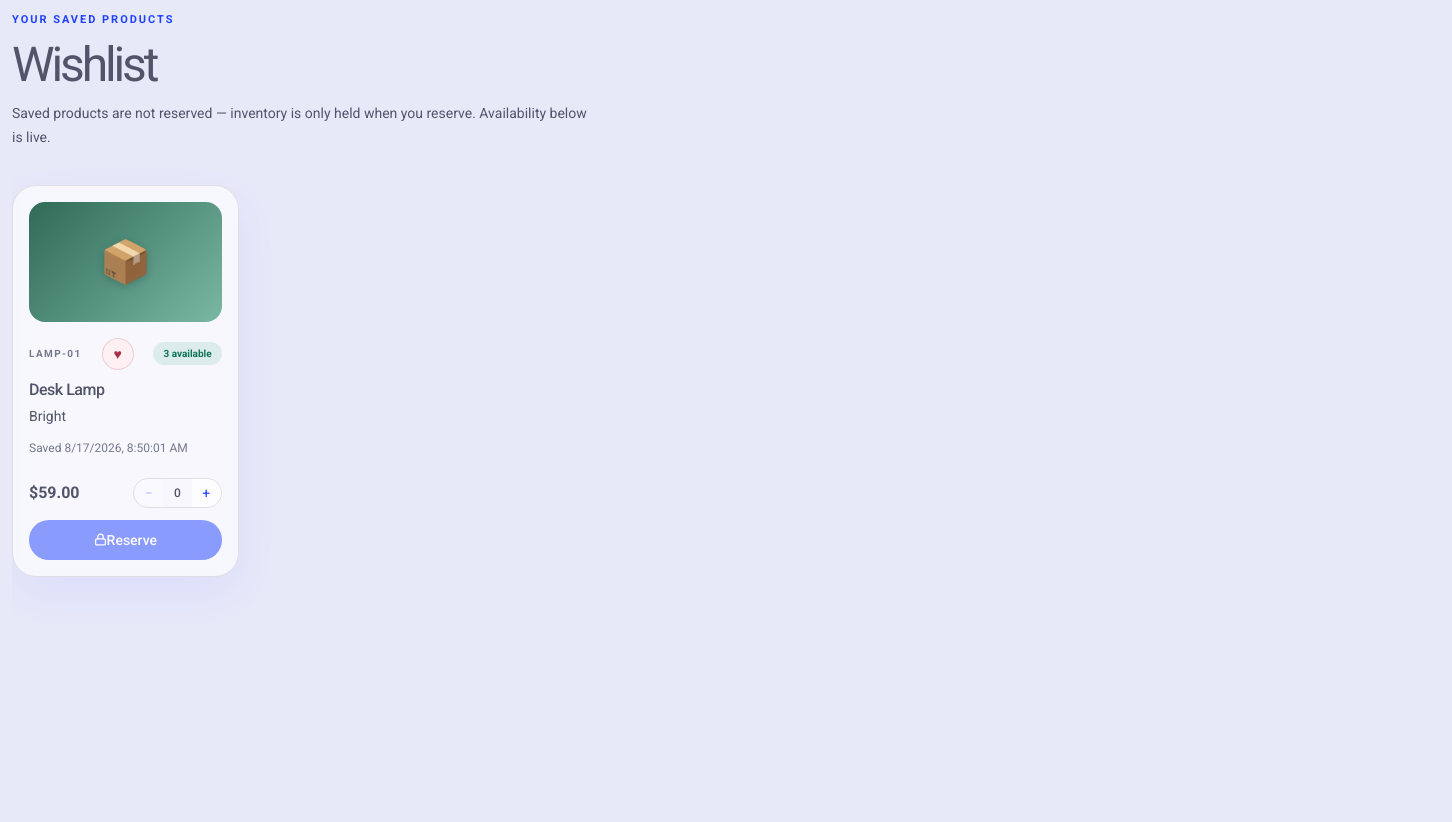
CustomerWishlist › removes items from the wishlist without touching reservations
Expected: the heading "Desk Lamp" is shown, 29,380 -> 104,399
Click the button named "Remove Desk Lamp from wishlist".
click(118, 354)  # box 102,338 -> 134,370
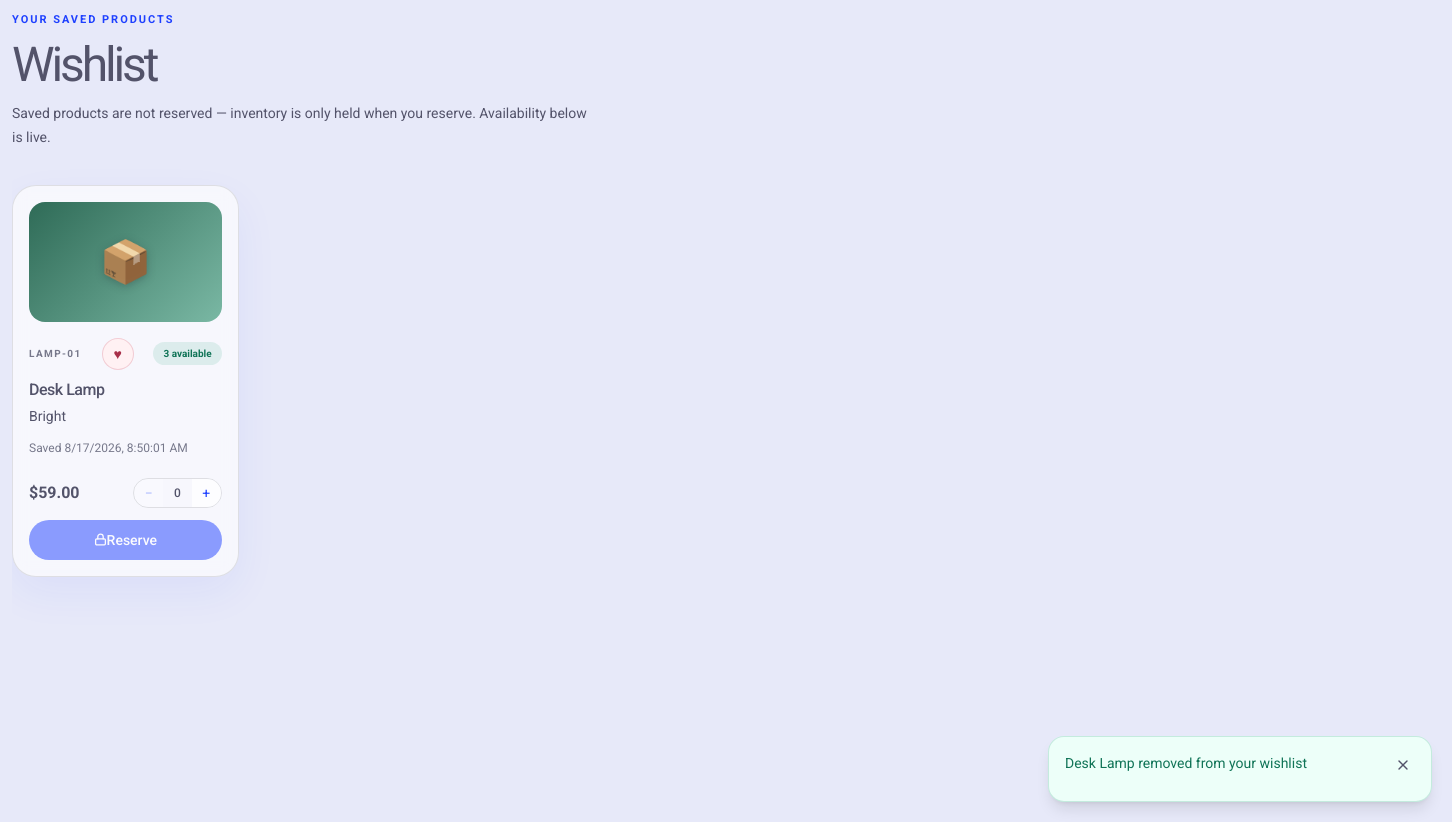
Expected: the text "Desk Lamp removed from your wishlist" is shown, 1065,753 -> 1307,773
